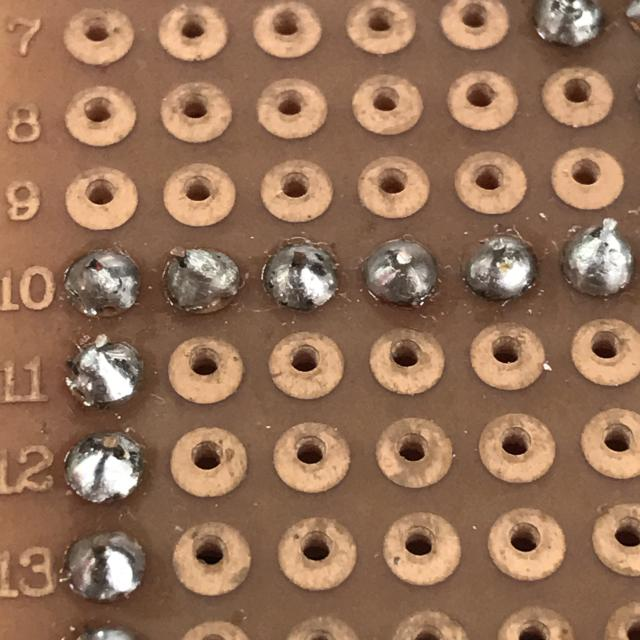good: (54, 521, 155, 612), (357, 230, 447, 316), (258, 234, 348, 318), (554, 218, 639, 304), (458, 229, 544, 306)
hole: (58, 427, 152, 509)
pad_less: (56, 243, 148, 327), (157, 241, 246, 321), (63, 332, 149, 414)
